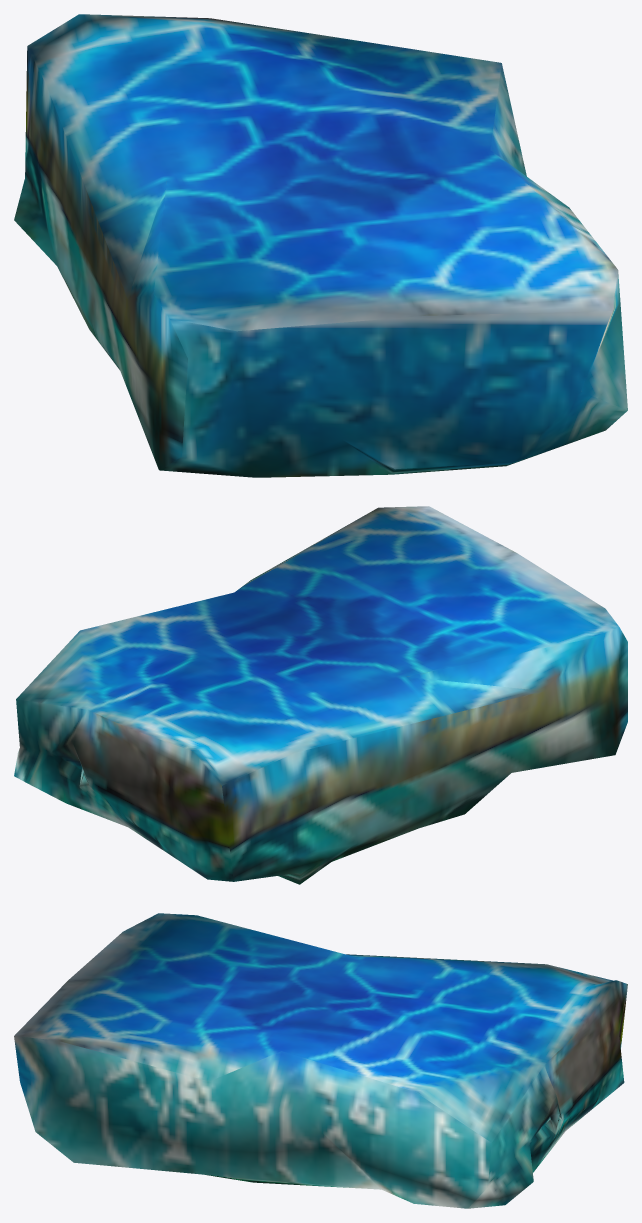
The model's file is Ocean_Floor.fbx.
The picture shows the model from 3 angles, top to bottom: view 1: azimuth 30°, elevation 25°; view 2: azimuth 150°, elevation 25°; view 3: azimuth 270°, elevation 25°; orthographic projection. The views are drawn at different scales.
Parts seen in each view (by area): view 1: Ocean_Floor_Mesh; view 2: Ocean_Floor_Mesh; view 3: Ocean_Floor_Mesh.
Part boxes in pixels (<box>): Ocean_Floor_Mesh: <box>14,14,627,477</box>; Ocean_Floor_Mesh: <box>14,506,627,884</box>; Ocean_Floor_Mesh: <box>14,913,627,1208</box>.
Bounding box in the file's own units: 6 × 2.04 × 7.94.
Materials: 1 (1 with a texture image).
